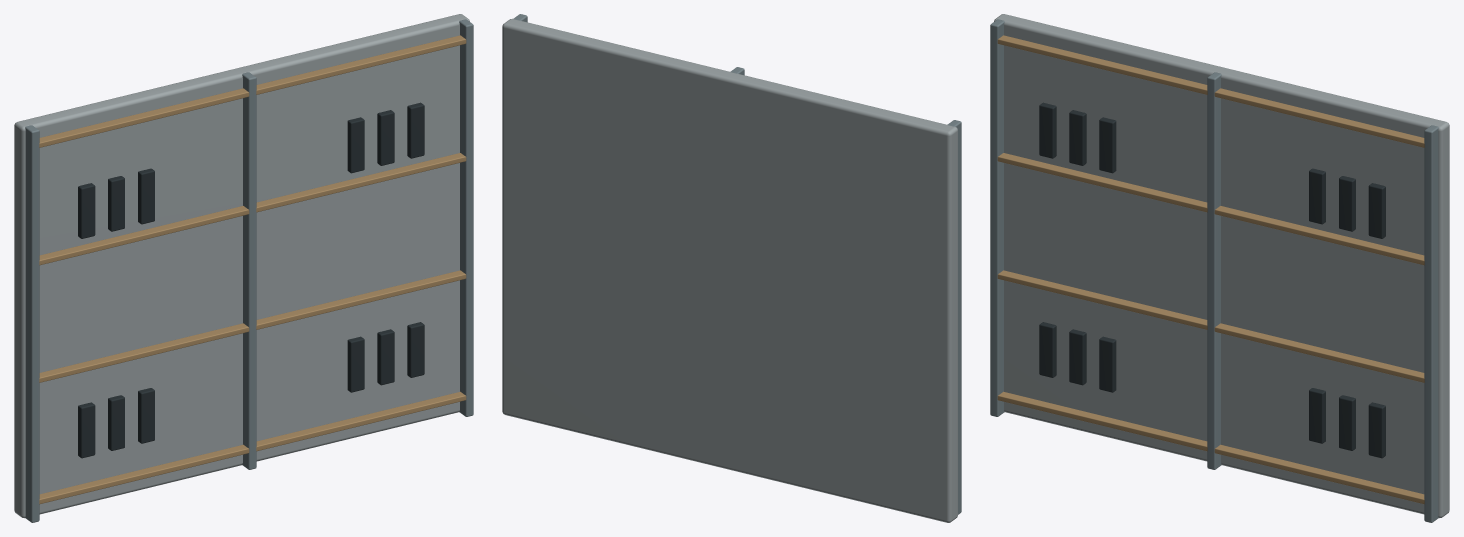
Rendered from service_wall.fbx.
The picture shows the model from 3 angles, left to right: view 1: azimuth 30°, elevation 25°; view 2: azimuth 150°, elevation 25°; view 3: azimuth 330°, elevation 25°; orthographic projection.
Visible parts, largest first — view 1: service_wall; view 2: service_wall; view 3: service_wall.
Boxes of the visible parts, left/top/right/bottom form: service_wall: left=14, top=14, right=473, bottom=522; service_wall: left=502, top=14, right=961, bottom=522; service_wall: left=990, top=14, right=1449, bottom=522.
Bounding box in the file's own units: 600 × 500 × 36.5.
